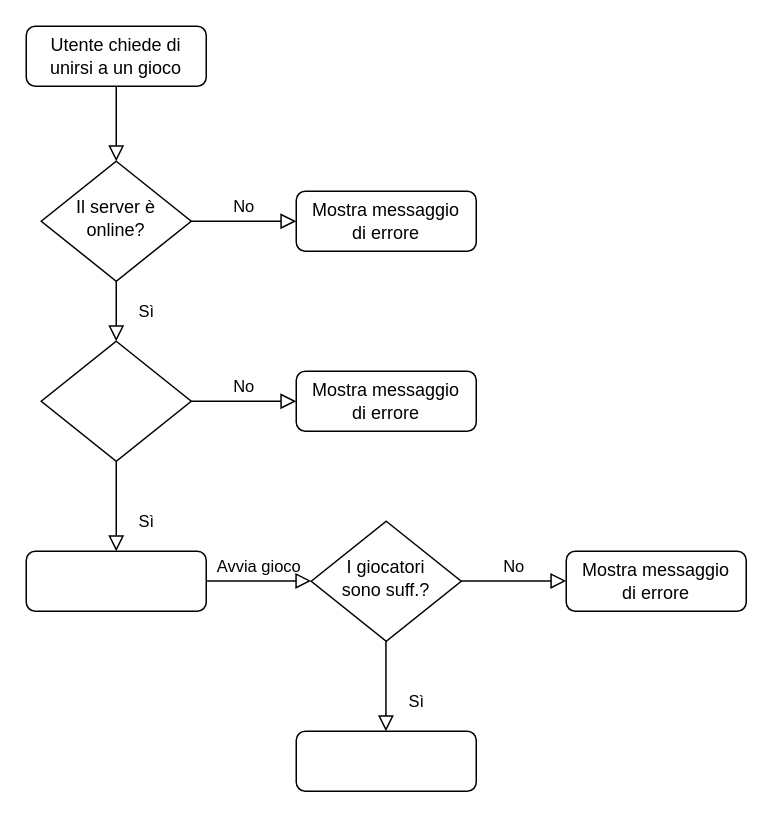
The diagram is 773 pixels wide and 818 high, and some of its shapes have lost their labels. Each missing label, with the centre of its shape:
Avvia partita: (x=385, y=760)
Entra in lobby: (x=115, y=580)
Il codice è giusto?: (x=115, y=400)
